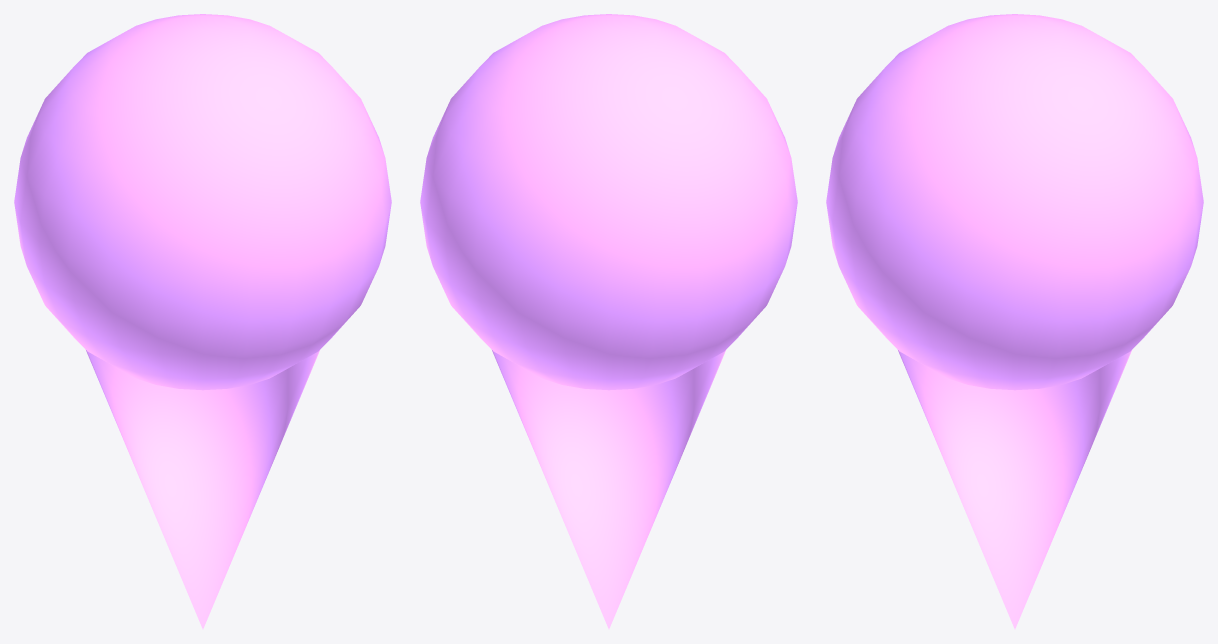
Rendered from stairs.glb.
3 renders of one model, left to right at view 1: azimuth 30°, elevation 25°; view 2: azimuth 150°, elevation 25°; view 3: azimuth 270°, elevation 25°, orthographic.
Size of the model in its own units: 0.08 by 0.14 by 0.08.
